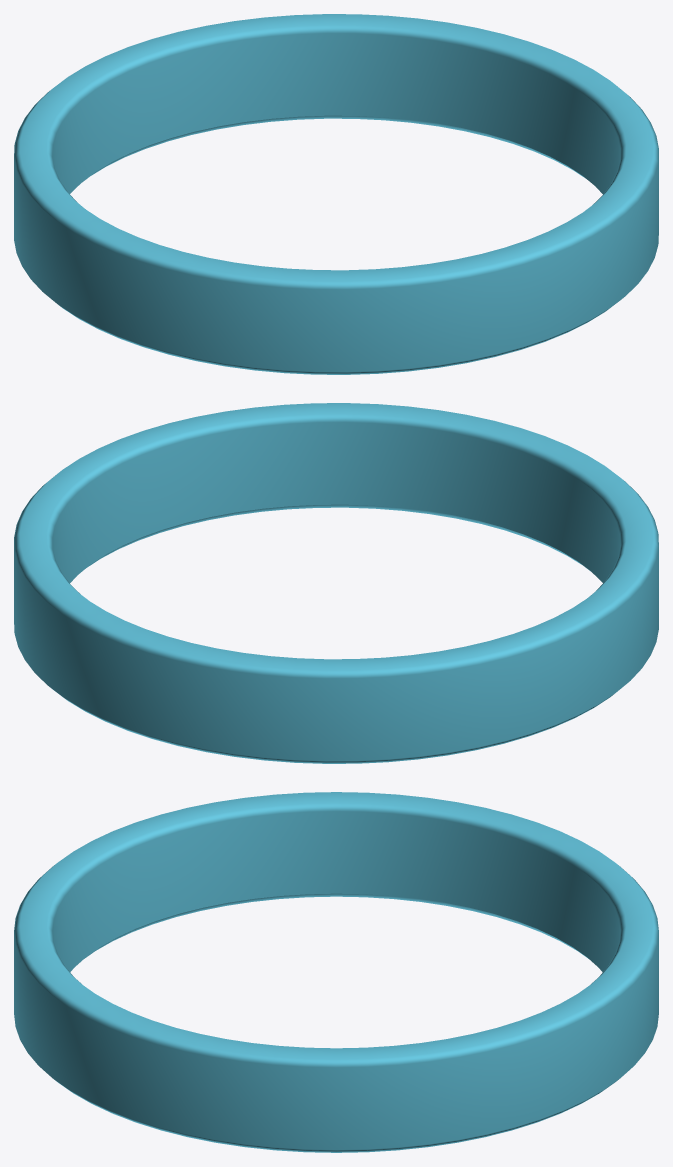
The picture shows the model from 3 angles, top to bottom: view 1: azimuth 30°, elevation 25°; view 2: azimuth 150°, elevation 25°; view 3: azimuth 270°, elevation 25°; orthographic projection.
Visible parts, largest first — view 1: seal_body; view 2: seal_body; view 3: seal_body.
Part boxes in pixels (x1,y1,x2,y2): seal_body: [14, 14, 658, 374]; seal_body: [14, 403, 658, 763]; seal_body: [14, 792, 658, 1152].
Bounding box in the file's own units: 0.0794 × 0.0127 × 0.0794.
